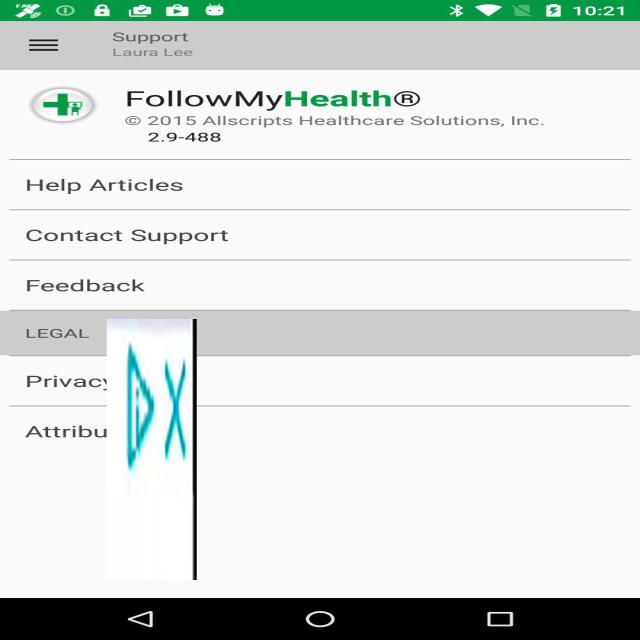sneaking: (106, 319, 196, 580)
